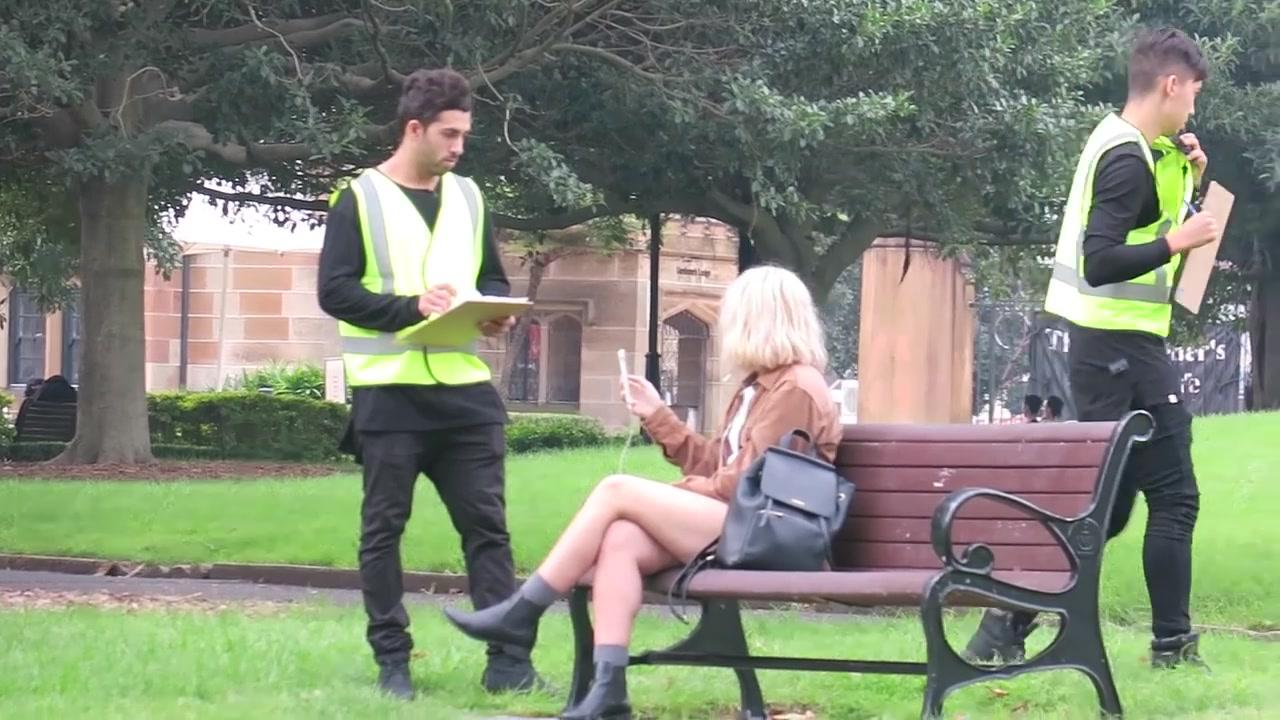Hi-Vis Jacket: (332, 162, 504, 413), (1049, 120, 1203, 357)
no -hi-vis jacket: (714, 362, 843, 588)
